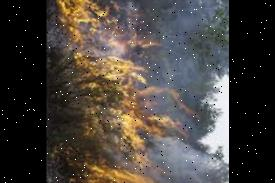fire: (49, 0, 197, 183)
